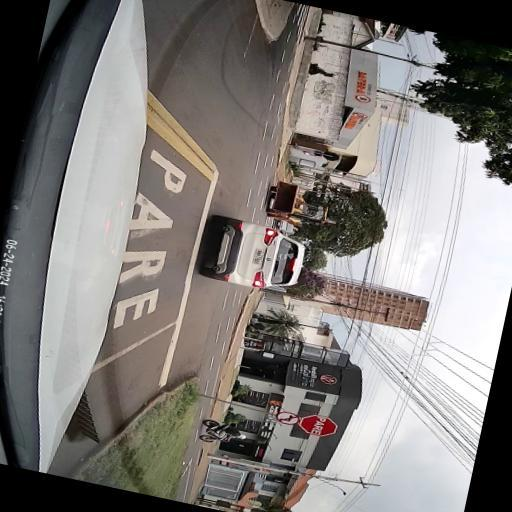R-1: (296, 412, 337, 439)
R-24a: (274, 410, 298, 426)
